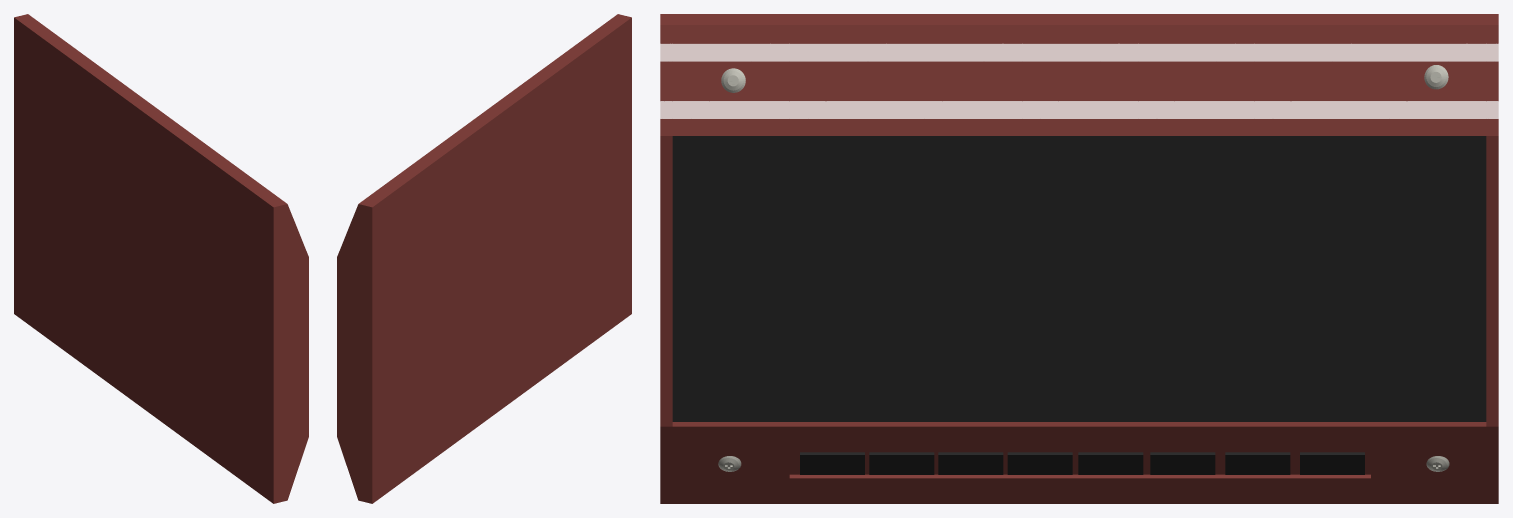
The model's file is Access Control 1.fbx.
3 views of the same model, side by side, from view 1: azimuth 30°, elevation 25°; view 2: azimuth 150°, elevation 25°; view 3: azimuth 270°, elevation 25° (orthographic). The views are drawn at different scales.
Parts seen in each view (by area): view 1: Cube.013; view 2: Cube.013; view 3: Cube.013.
Boxes of the visible parts, x1,y1,x2,y2 form: Cube.013: (14,14,308,503); Cube.013: (337,14,631,503); Cube.013: (660,14,1498,503).
Size of the model in its own units: 24.97 by 200 by 317.
